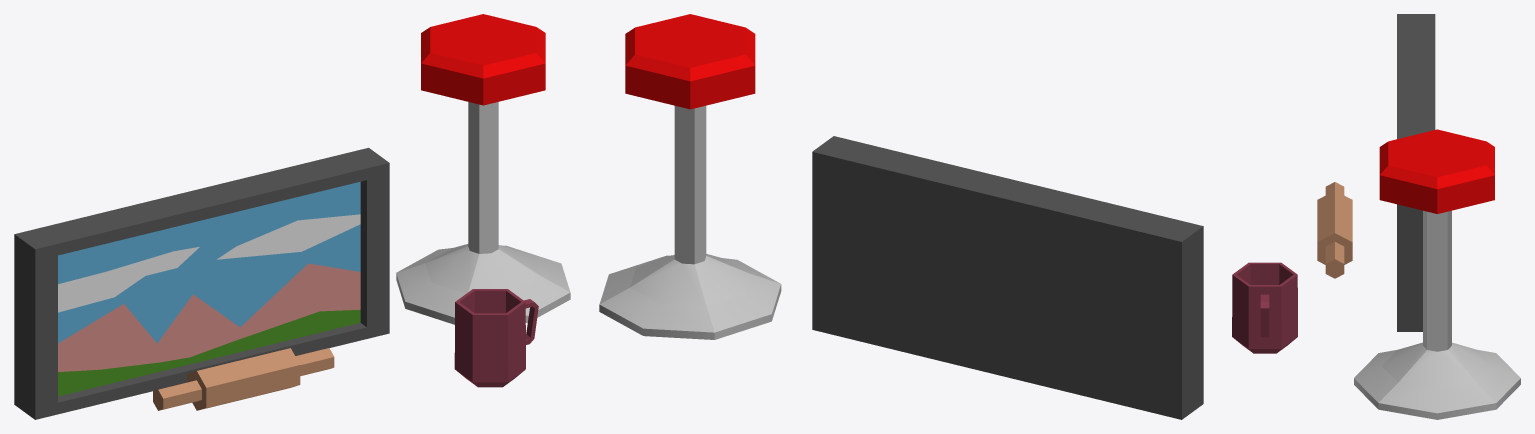
File: Kitchen_Assets_2.fbx
The picture shows the model from 3 angles, left to right: view 1: azimuth 30°, elevation 25°; view 2: azimuth 150°, elevation 25°; view 3: azimuth 270°, elevation 25°; orthographic projection. The views are drawn at different scales.
Visible parts, largest first — view 1: Paniting, Seat2, Jug4, Rolling_Pin; view 2: Paniting, Seat2; view 3: Seat2, Paniting, Jug4, Rolling_Pin.
Boxes of the visible parts, bbox=[...] form: Paniting: bbox=[14, 147, 389, 419]; Seat2: bbox=[396, 14, 570, 324]; Jug4: bbox=[454, 289, 538, 387]; Rolling_Pin: bbox=[153, 348, 334, 410]; Paniting: bbox=[812, 136, 1203, 419]; Seat2: bbox=[599, 14, 781, 339]; Seat2: bbox=[1354, 129, 1520, 419]; Paniting: bbox=[1397, 14, 1435, 331]; Jug4: bbox=[1232, 262, 1297, 353]; Rolling_Pin: bbox=[1317, 182, 1352, 278].
Bounding box in the file's own units: 7.13 × 3.11 × 3.51.
